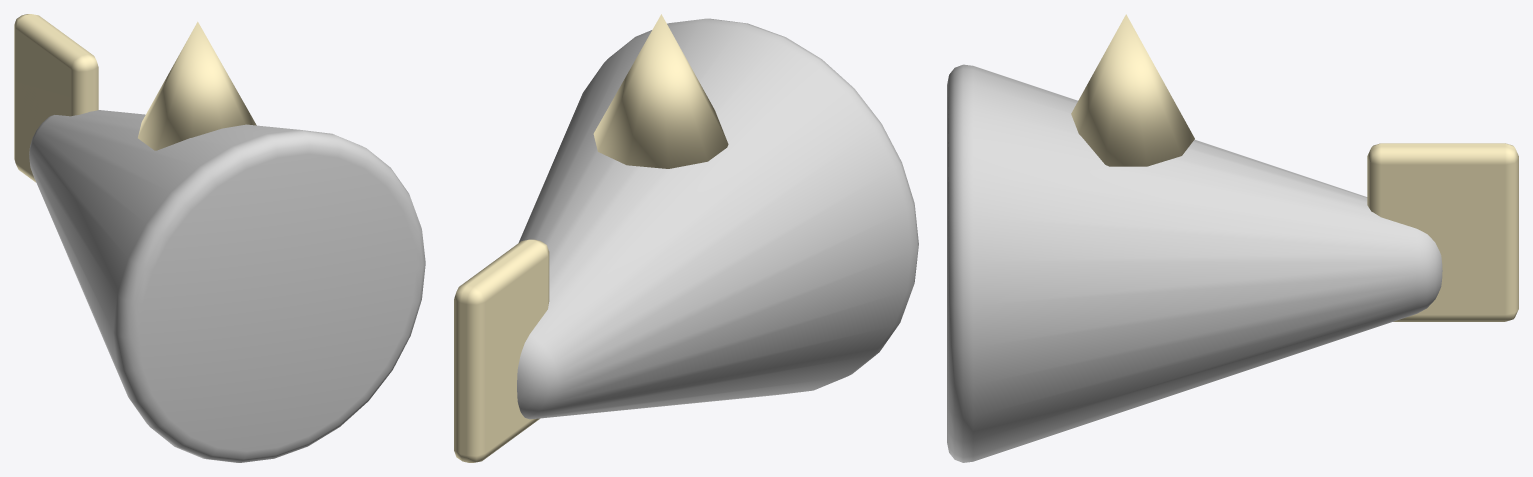
File: dragon_tail.glb
3 views of the same model, side by side, from view 1: azimuth 30°, elevation 25°; view 2: azimuth 150°, elevation 25°; view 3: azimuth 270°, elevation 25° (orthographic). The views are drawn at different scales.
Visible parts, largest first — view 1: Tint_Tail, TailFin, Spike; view 2: Tint_Tail, TailFin, Spike; view 3: Tint_Tail, TailFin, Spike.
Boxes of the visible parts, bbox=[...] form: Tint_Tail: bbox=[29, 110, 425, 462]; TailFin: bbox=[14, 14, 98, 182]; Spike: bbox=[138, 21, 256, 150]; Tint_Tail: bbox=[517, 18, 918, 419]; TailFin: bbox=[454, 239, 549, 462]; Spike: bbox=[593, 14, 728, 168]; Tint_Tail: bbox=[947, 64, 1442, 462]; TailFin: bbox=[1367, 143, 1518, 321]; Spike: bbox=[1071, 14, 1194, 166].
Size of the model in its own units: 0.5782 by 0.6891 by 0.83.
